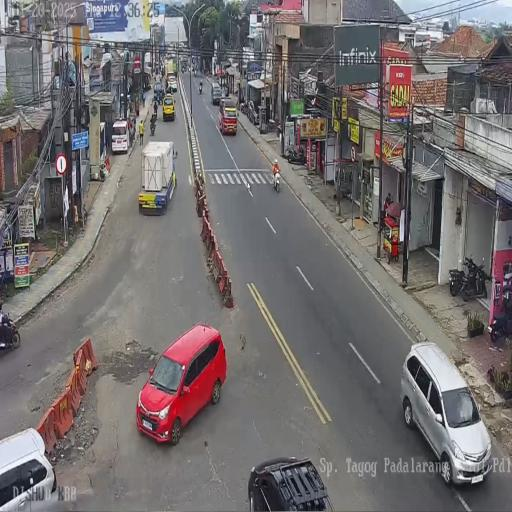3: (139, 139, 176, 217), (165, 60, 175, 84), (144, 52, 152, 74)
car: (398, 345, 490, 485), (136, 324, 226, 444), (244, 455, 332, 510), (0, 428, 57, 512), (218, 97, 238, 136), (111, 118, 131, 154), (162, 94, 176, 121), (246, 99, 260, 124), (210, 82, 221, 106), (153, 82, 165, 104), (120, 91, 130, 112)
truck: (449, 256, 475, 296), (489, 304, 511, 342), (0, 312, 21, 351), (284, 144, 305, 166), (273, 167, 281, 193), (240, 99, 248, 116), (150, 116, 157, 135), (276, 120, 282, 138), (198, 80, 202, 94), (194, 68, 198, 77), (181, 65, 185, 73), (188, 66, 190, 73)
